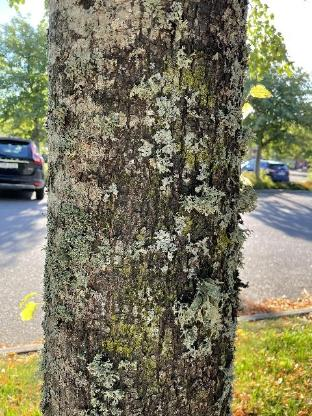tree: (33, 0, 251, 414)
